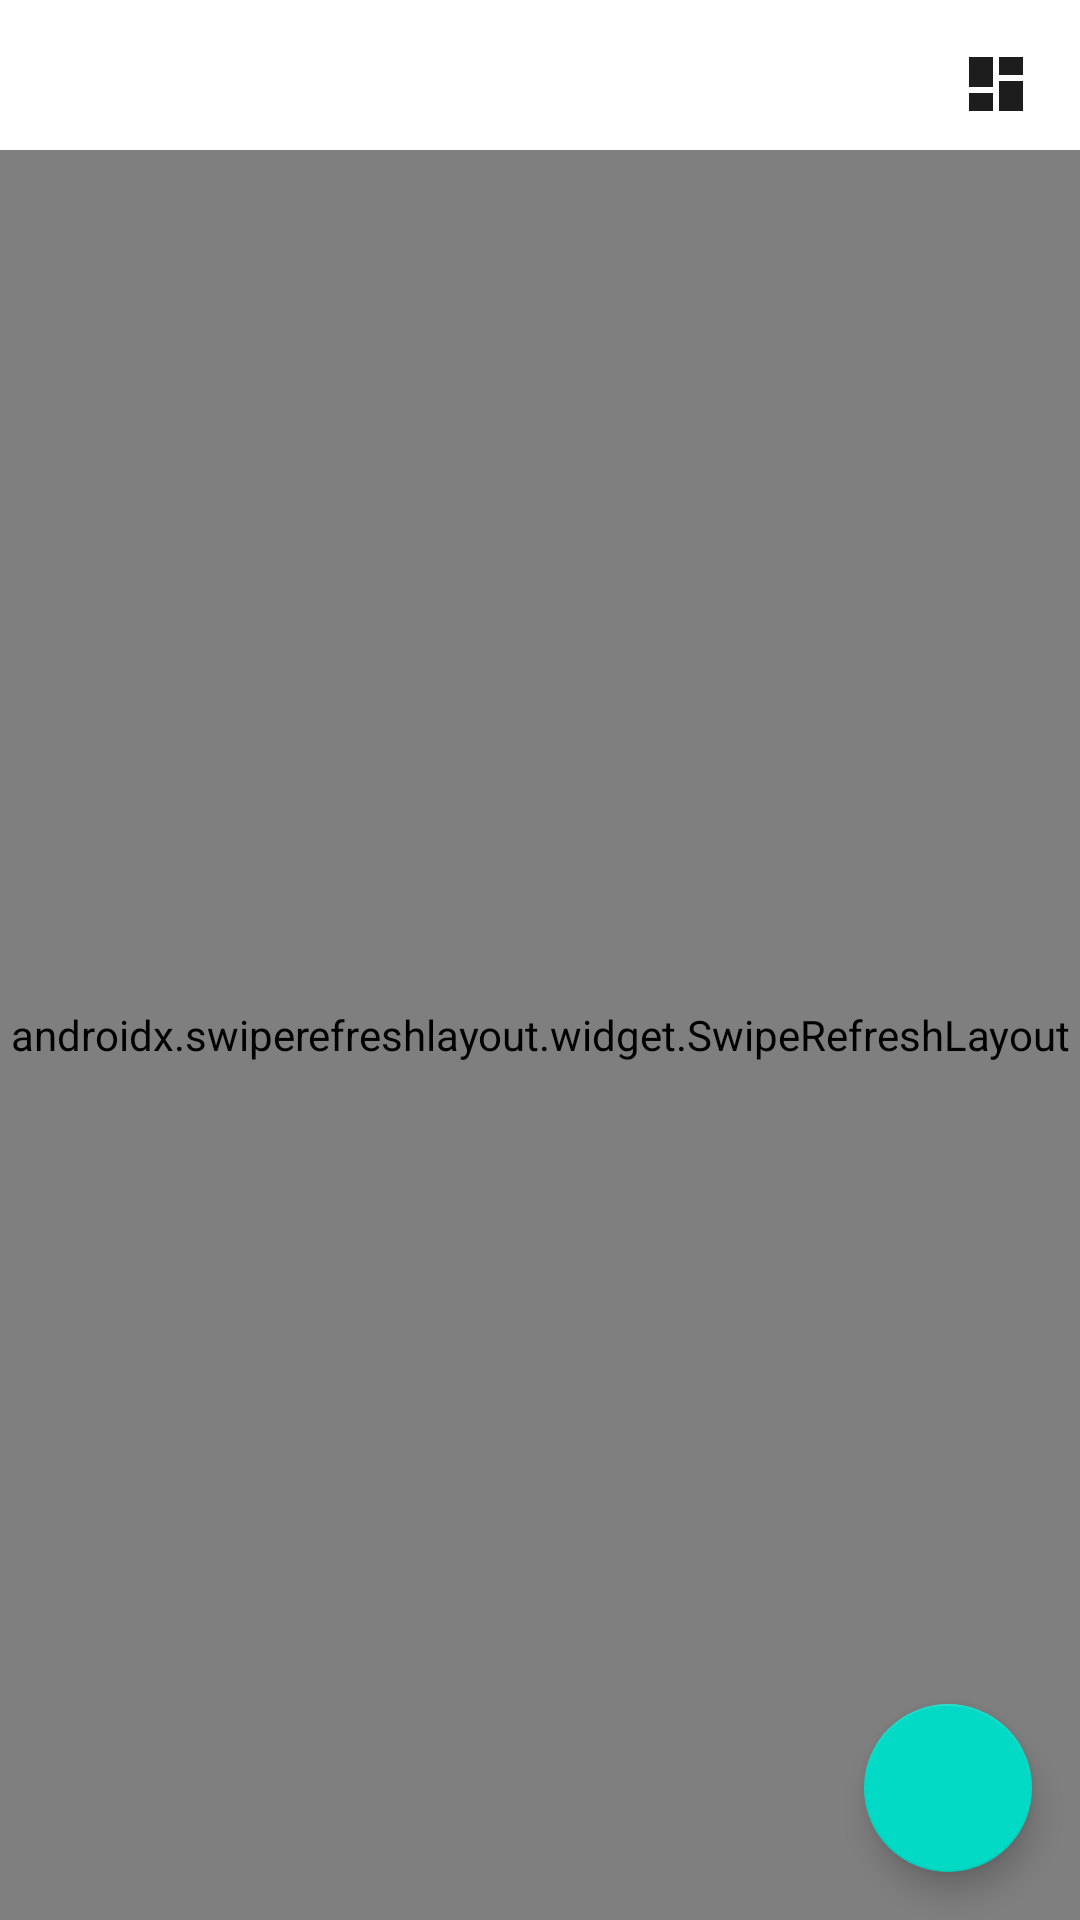

Screen size 1080 × 1920. Icon name, then its box in pixels as (x1, y1, x2, y2):
dashboard: (969, 57, 1023, 111)
